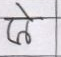e_matra: (15, 3, 32, 17)
